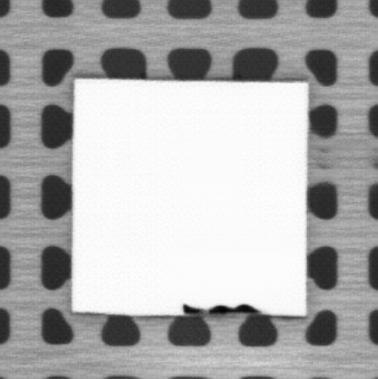DIE_BROKEN: (181, 301, 262, 316)
